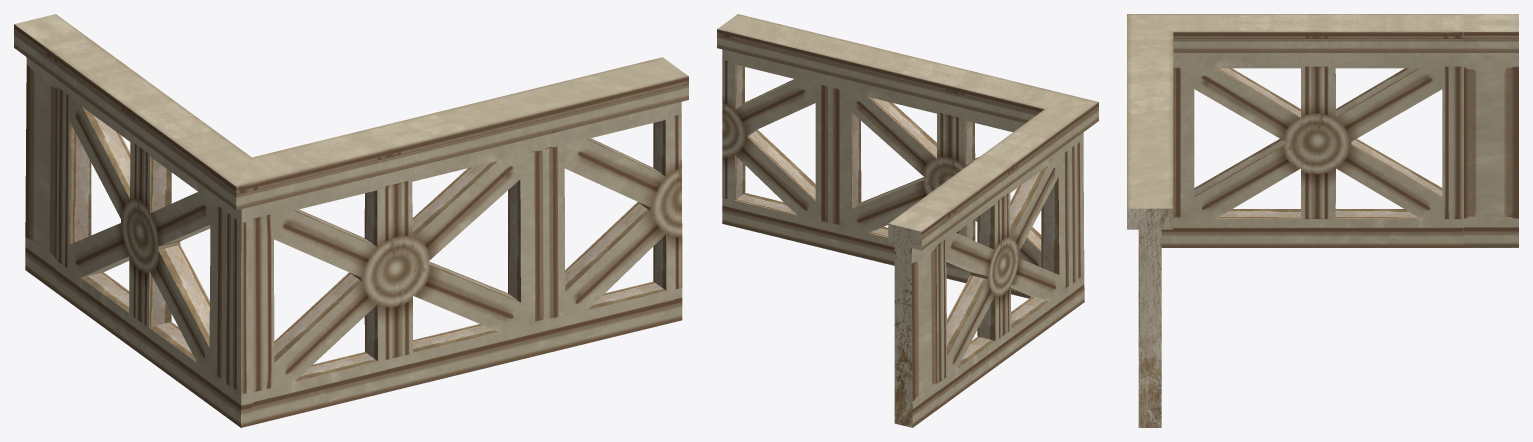
The model's file is svspartarail5.dae.
3 renders of one model, left to right at view 1: azimuth 30°, elevation 25°; view 2: azimuth 150°, elevation 25°; view 3: azimuth 270°, elevation 25°, orthographic. The views are drawn at different scales.
Visible parts, largest first — view 1: unnamed_object29_copy51-0; view 2: unnamed_object29_copy51-0; view 3: unnamed_object29_copy51-0.
Part boxes in pixels (left/top/right/bottom): unnamed_object29_copy51-0: left=14, top=14, right=688, bottom=427; unnamed_object29_copy51-0: left=717, top=14, right=1098, bottom=427; unnamed_object29_copy51-0: left=1127, top=14, right=1518, bottom=427.
Size of the model in its own units: 200 by 105 by 170.
